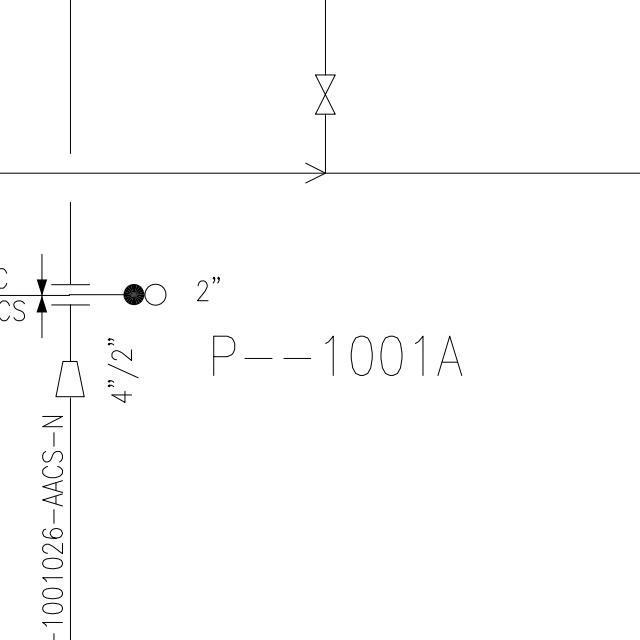GV: (309, 69, 339, 124)
SP: (51, 355, 89, 404)
